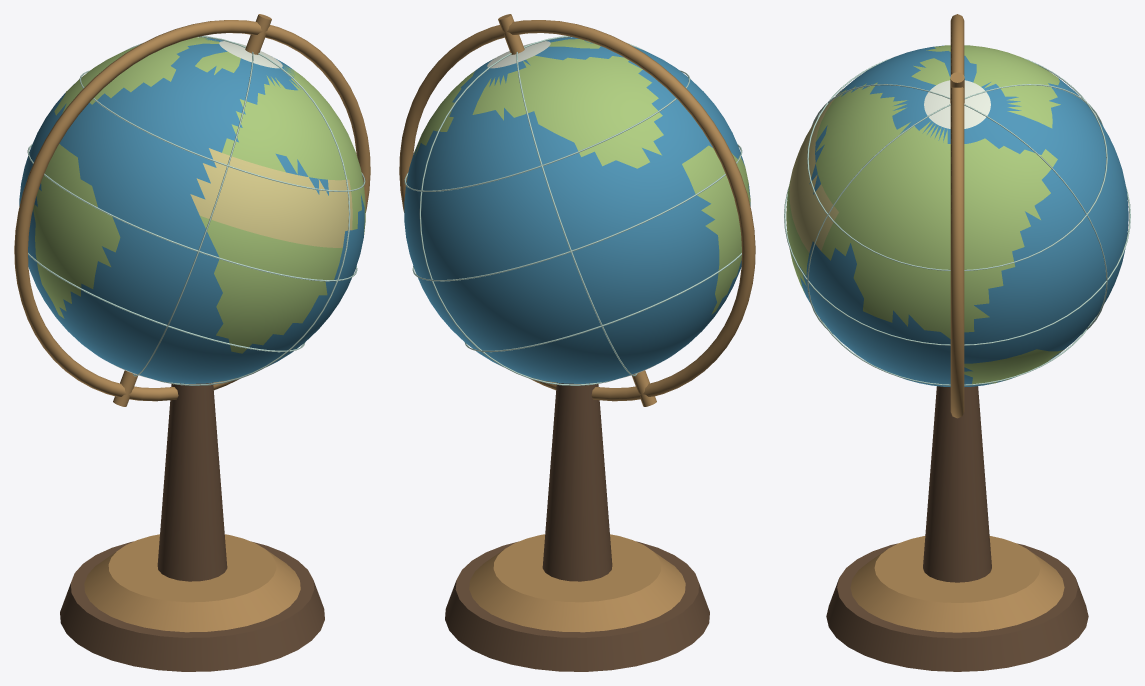
File: globe.glb
3 views of the same model, side by side, from view 1: azimuth 30°, elevation 25°; view 2: azimuth 150°, elevation 25°; view 3: azimuth 270°, elevation 25° (orthographic).
Visible parts, largest first — view 1: Molroo globe; view 2: Molroo globe; view 3: Molroo globe.
Part boxes in pixels (box(x1,y1,x2,y2)): Molroo globe: box(14, 14, 370, 671); Molroo globe: box(399, 14, 755, 671); Molroo globe: box(784, 14, 1130, 671).
Bounding box in the file's own units: 1.51 × 2.41 × 1.3.
